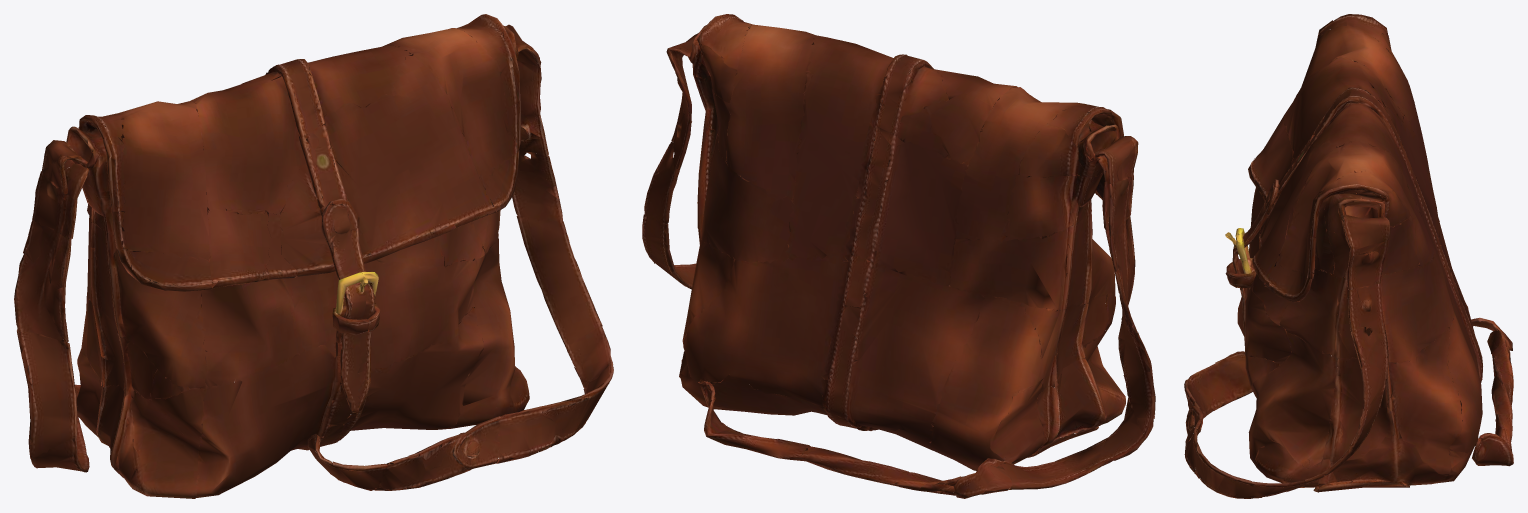
The model's file is paper-satchel.glb.
3 views of the same model, side by side, from view 1: azimuth 30°, elevation 25°; view 2: azimuth 150°, elevation 25°; view 3: azimuth 270°, elevation 25° (orthographic). The views are drawn at different scales.
Parts seen in each view (by area): view 1: Mesh_0; view 2: Mesh_0; view 3: Mesh_0.
Boxes of the visible parts, x1,y1,x2,y2 form: Mesh_0: [14, 14, 613, 498]; Mesh_0: [642, 14, 1155, 498]; Mesh_0: [1184, 14, 1513, 498].
Bounding box in the file's own units: 1.9 × 1.24 × 1.14.
1 material, 1 textured.
